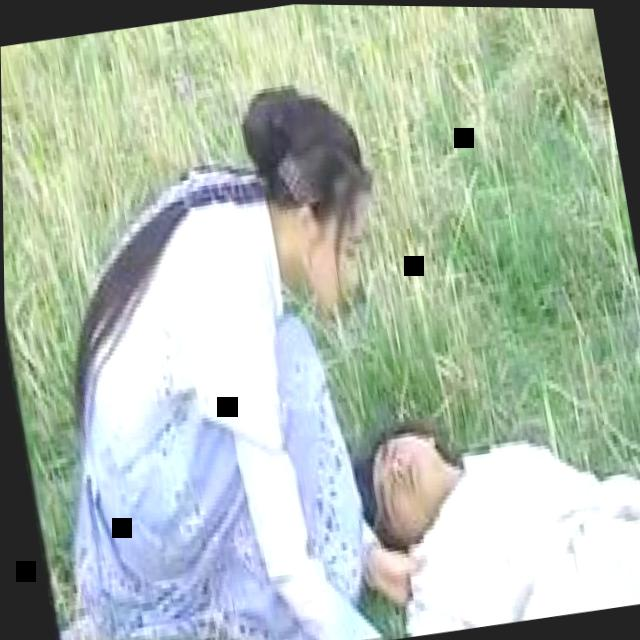Fall-Detected: (313, 364, 640, 640)
